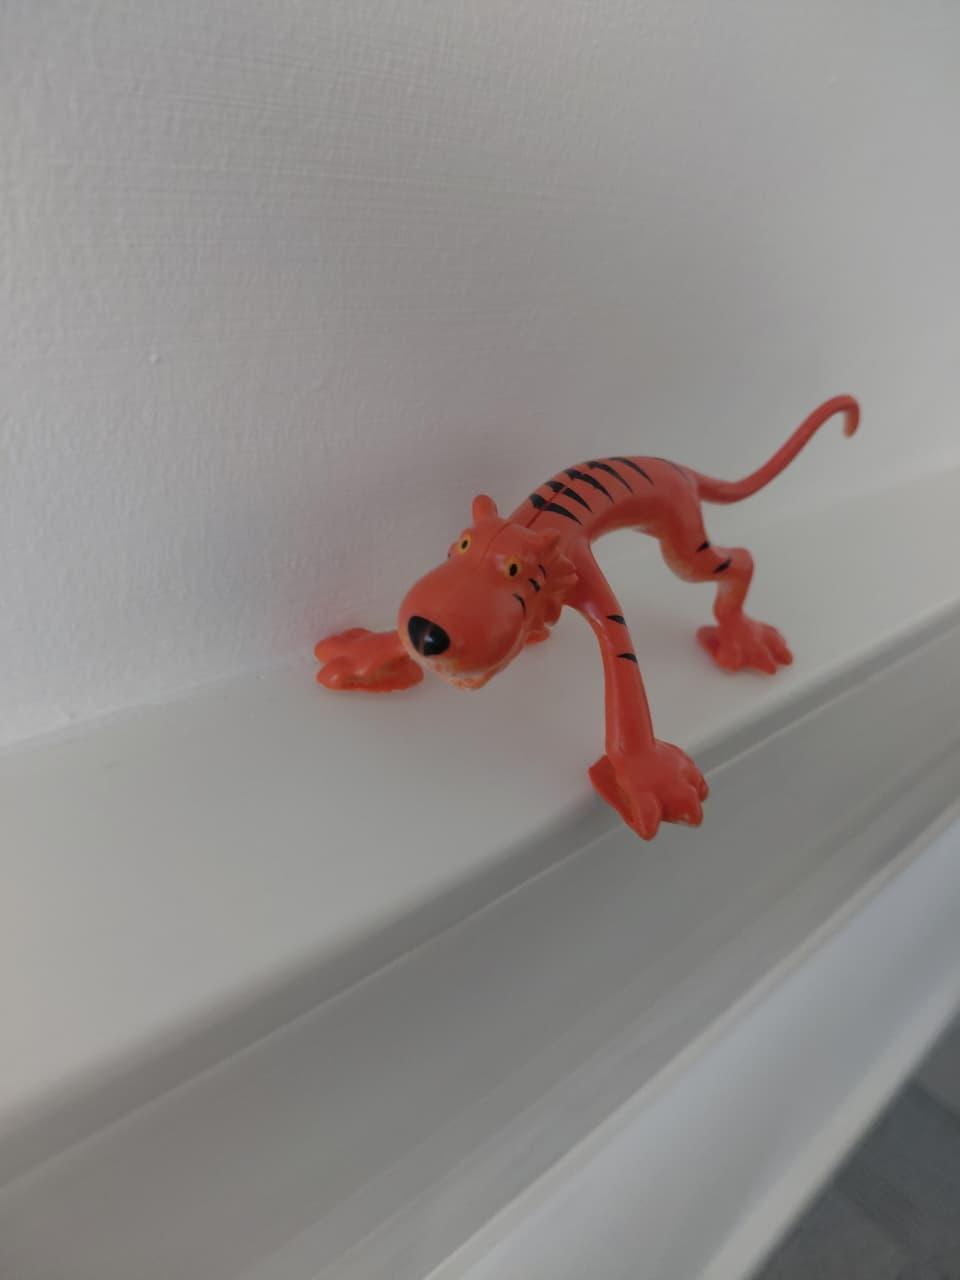tiger: (270, 351, 958, 873)
